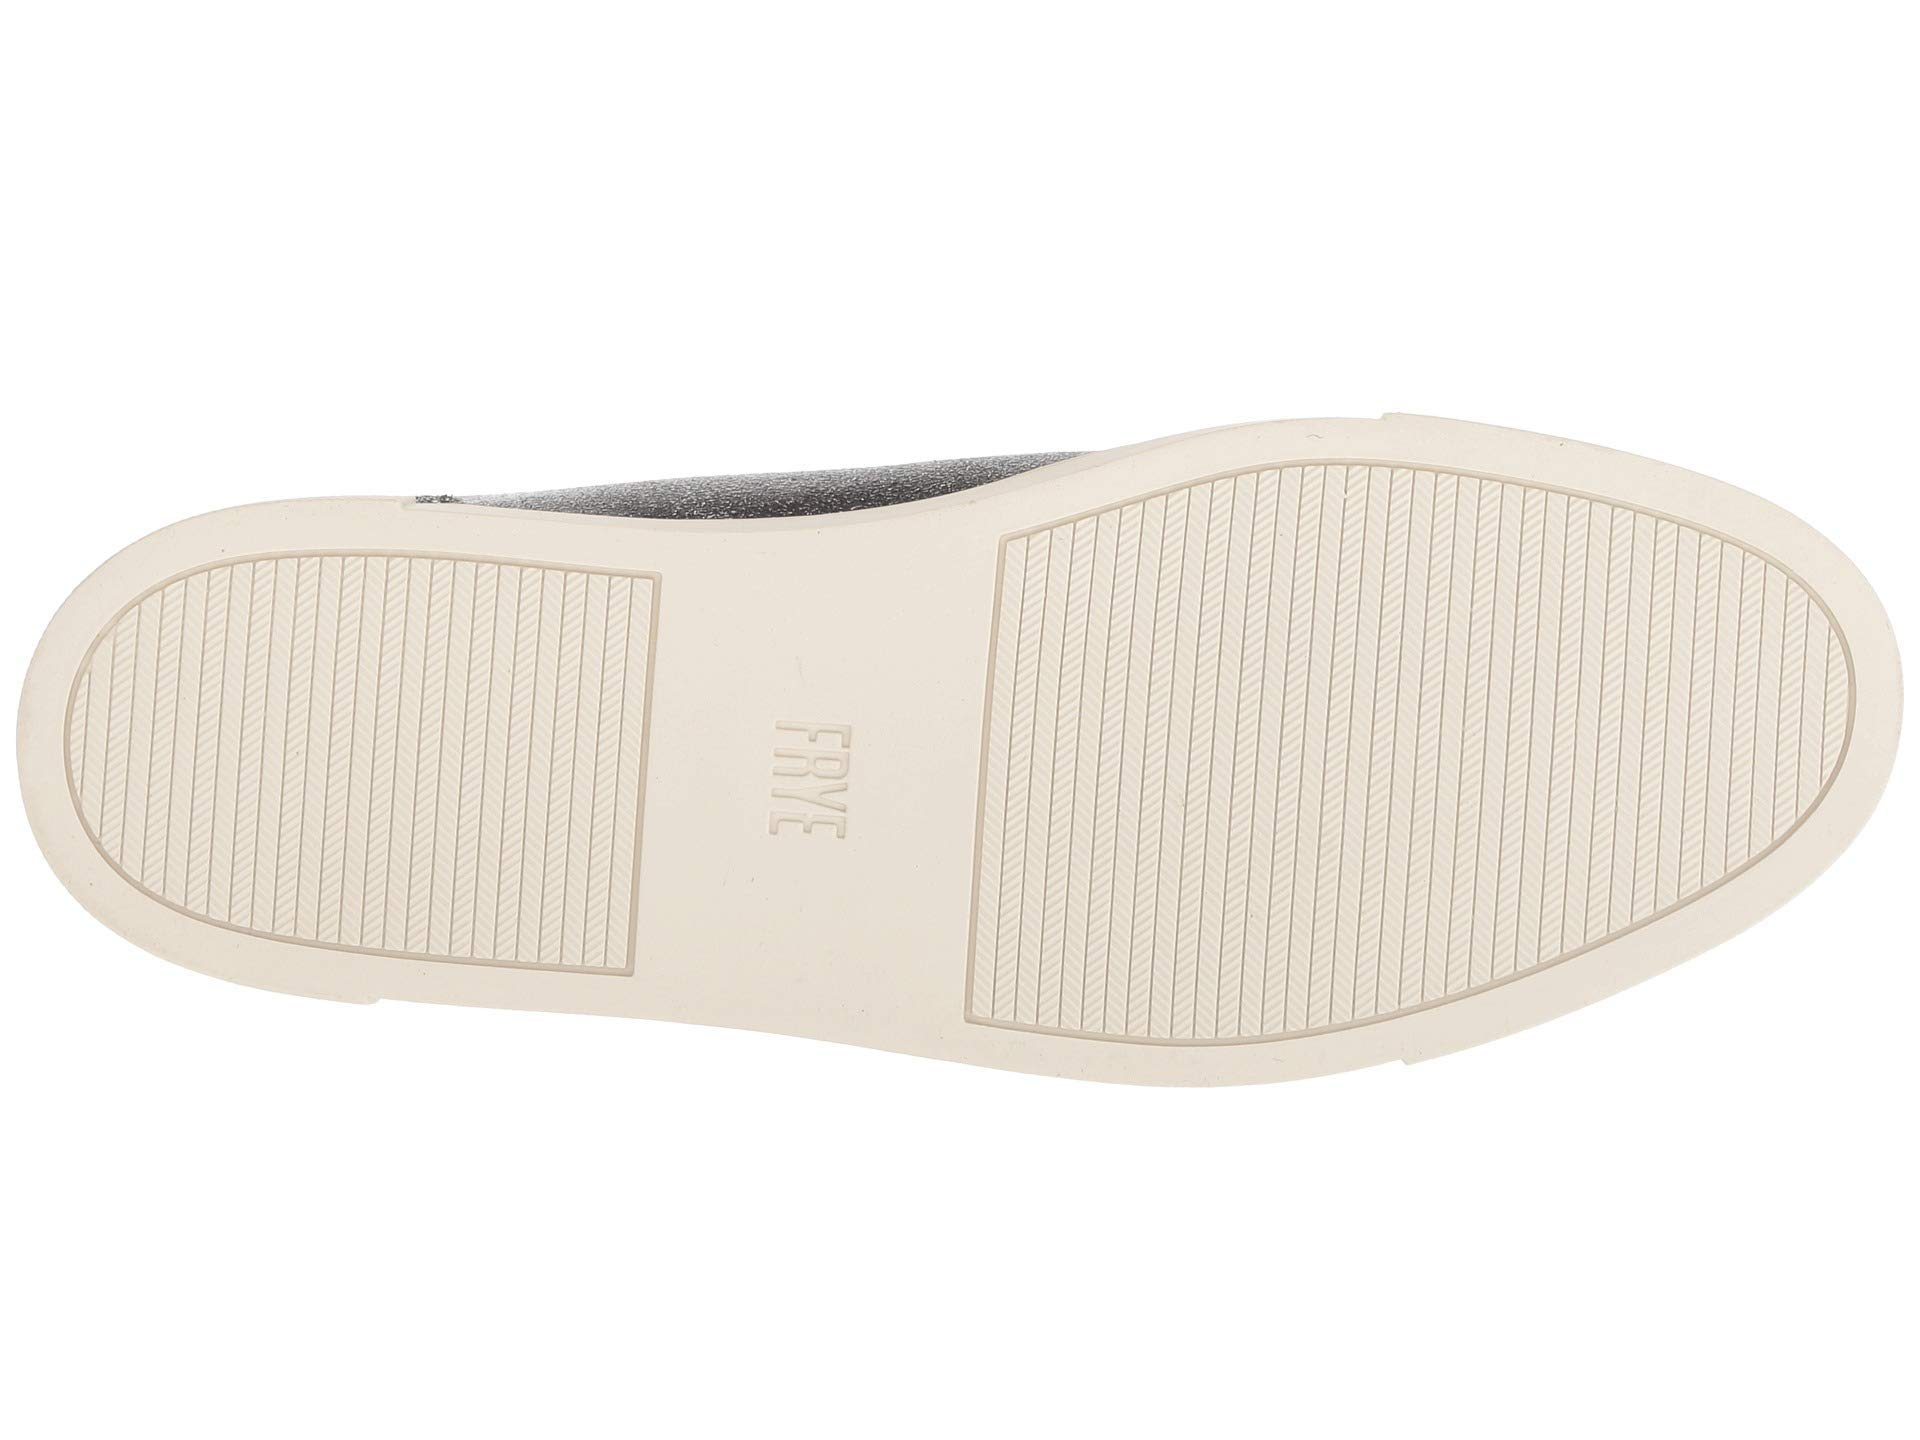quad: (172, 578, 593, 926), (1293, 486, 1507, 982), (1085, 540, 1274, 1007), (1528, 535, 1764, 862)
text: (744, 697, 872, 877)
